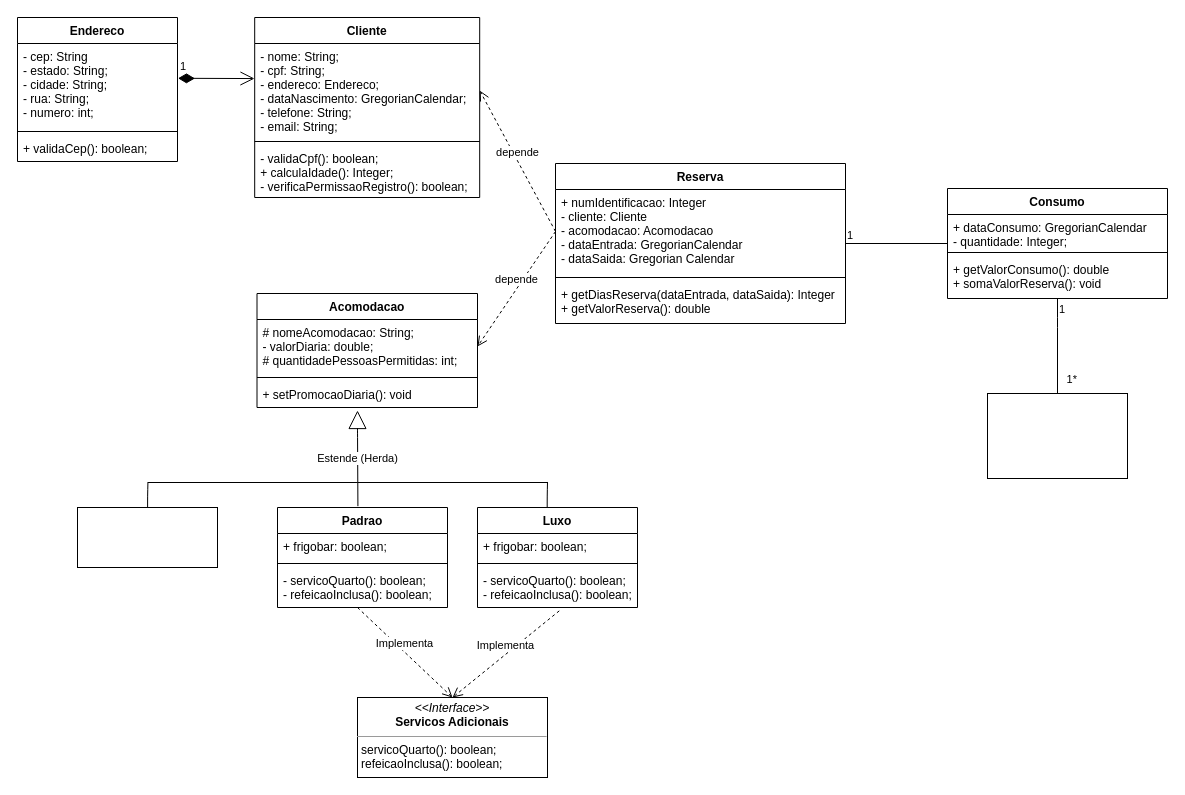
The diagram is 1185 pixels wide and 795 high, and some of its shapes have lost their labels. The centre of each missing label's shape, as x and y in pixels:
"ItemFrigobar + item: String; + quantidade: Integer; + valor: double;" belongs at [1057,435].
"Simples + frigobar: boolean;" belongs at [147,537].
